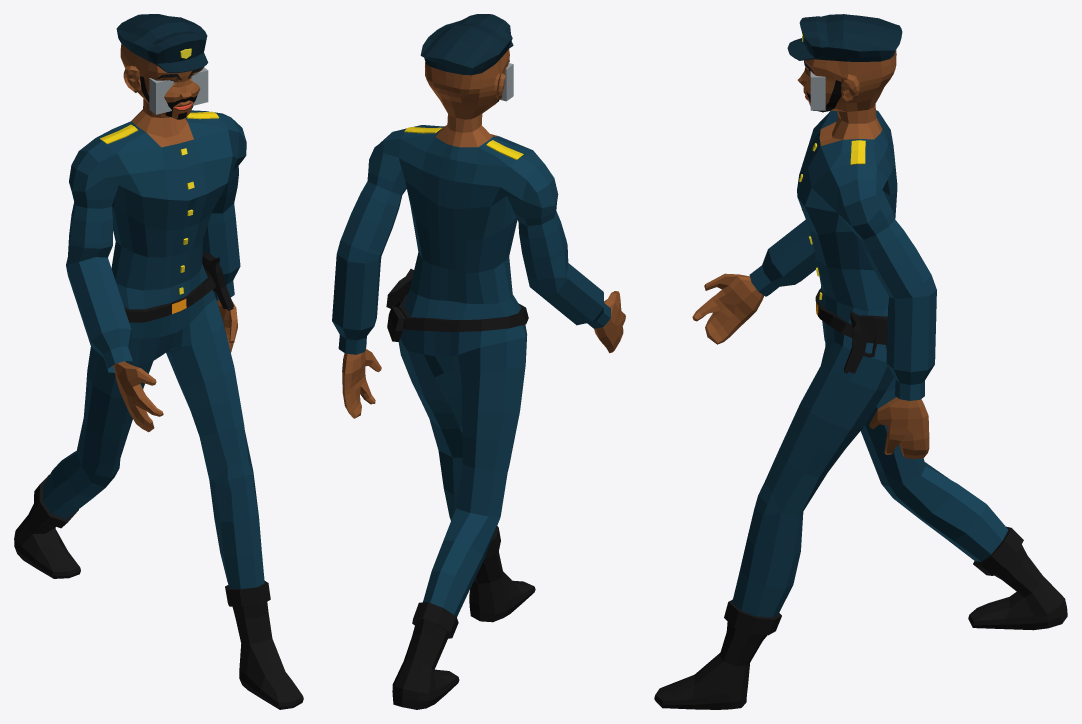
The model's file is Police_Walk_Mask.fbx.
The picture shows the model from 3 angles, left to right: view 1: azimuth 30°, elevation 25°; view 2: azimuth 150°, elevation 25°; view 3: azimuth 270°, elevation 25°; orthographic projection. The views are drawn at different scales.
Visible parts, largest first — view 1: Police_Walk_Mask; view 2: Police_Walk_Mask; view 3: Police_Walk_Mask.
Boxes of the visible parts, bbox=[...] form: Police_Walk_Mask: bbox=[14, 14, 303, 709]; Police_Walk_Mask: bbox=[332, 14, 625, 709]; Police_Walk_Mask: bbox=[654, 14, 1067, 709].
Size of the model in its own units: 0.3759 by 1.09 by 0.6177.
